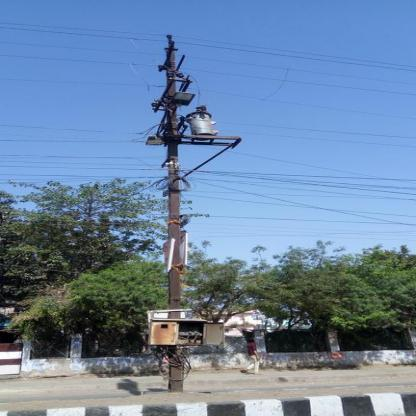Electrical Pole: (112, 28, 244, 396)
